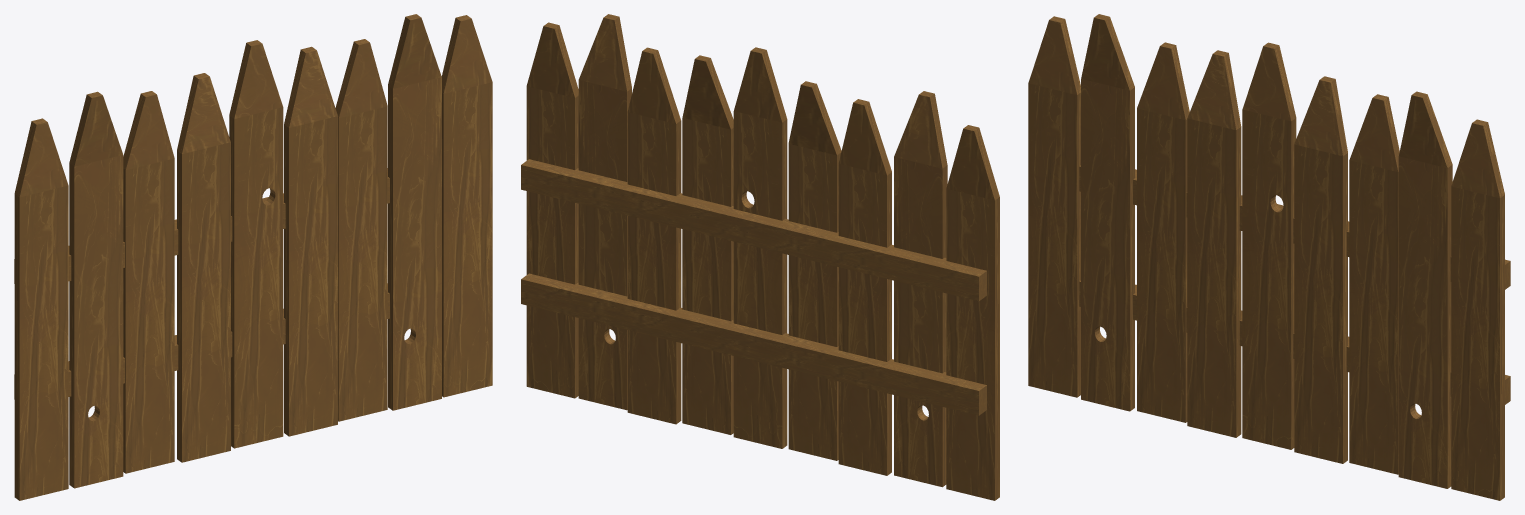
File: valla 1.fbx
3 renders of one model, left to right at view 1: azimuth 30°, elevation 25°; view 2: azimuth 150°, elevation 25°; view 3: azimuth 330°, elevation 25°, orthographic.
Visible parts, largest first — view 1: Cube.013, Cube.010, Cube.007, Cube.009, Cube.011, Cube.014, Cube.012, Cube.006, Cube.008, Cube.015, Cube.016; view 2: Cube.010, Cube.014, Cube.013, Cube.008, Cube.015, Cube.016, Cube.012, Cube.007, Cube.006, Cube.009, Cube.011; view 3: Cube.010, Cube.007, Cube.013, Cube.011, Cube.009, Cube.006, Cube.014, Cube.012, Cube.008, Cube.015, Cube.016.
Part boxes in pixels (<box>): Cube.013: <box>69,91,123,488</box>; Cube.010: <box>229,40,283,448</box>; Cube.007: <box>388,14,441,410</box>; Cube.009: <box>284,46,337,436</box>; Cube.011: <box>177,73,230,462</box>; Cube.014: <box>14,118,68,500</box>; Cube.012: <box>123,91,174,473</box>; Cube.006: <box>441,15,492,397</box>; Cube.008: <box>335,39,387,421</box>; Cube.015: <box>14,168,389,283</box>; Cube.016: <box>14,283,389,399</box>; Cube.010: <box>733,47,787,448</box>; Cube.014: <box>946,125,999,500</box>; Cube.013: <box>894,91,947,487</box>; Cube.008: <box>627,47,681,424</box>; Cube.015: <box>521,159,986,301</box>; Cube.016: <box>521,273,986,415</box>; Cube.012: <box>838,99,891,475</box>; Cube.007: <box>578,14,631,410</box>; Cube.006: <box>526,22,578,398</box>; Cube.009: <box>682,55,733,434</box>; Cube.011: <box>788,81,841,460</box>; Cube.010: <box>1242,42,1296,449</box>; Cube.007: <box>1398,91,1452,488</box>; Cube.013: <box>1081,14,1134,411</box>; Cube.011: <box>1187,50,1241,437</box>; Cube.009: <box>1294,76,1347,463</box>; Cube.006: <box>1451,119,1504,500</box>; Cube.014: <box>1028,16,1080,397</box>; Cube.012: <box>1137,42,1189,422</box>; Cube.008: <box>1349,94,1399,474</box>; Cube.015: <box>1079,165,1510,289</box>; Cube.016: <box>1079,280,1510,404</box>.
Bounding box in the file's own units: 515 × 412 × 30.94.
Materials: 1 (1 with a texture image).
